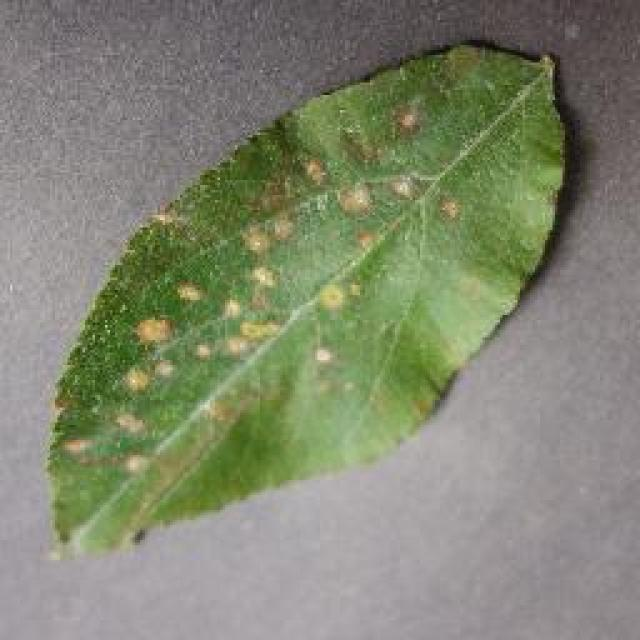apple rust disease: (42, 38, 570, 558)
